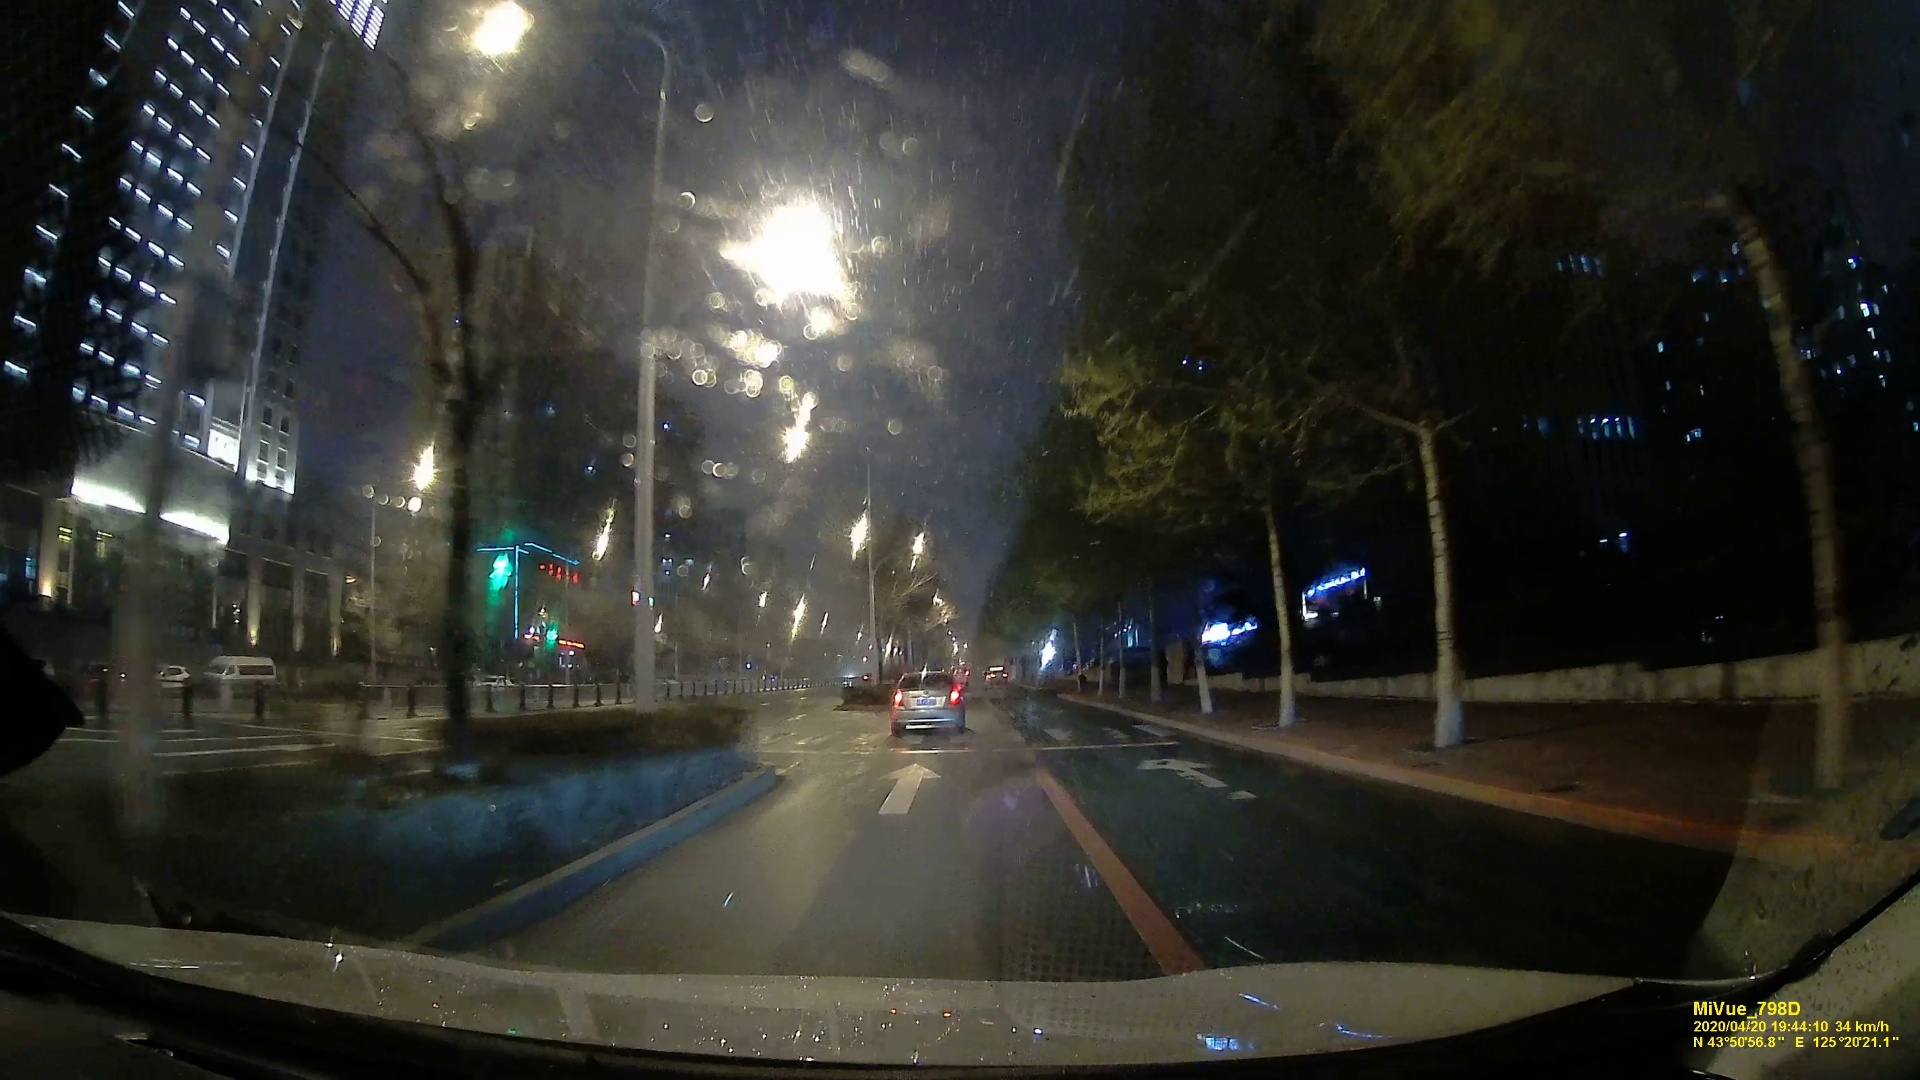minibus: (204, 655, 277, 691)
vehicle: (887, 670, 967, 737), (149, 662, 186, 684)
